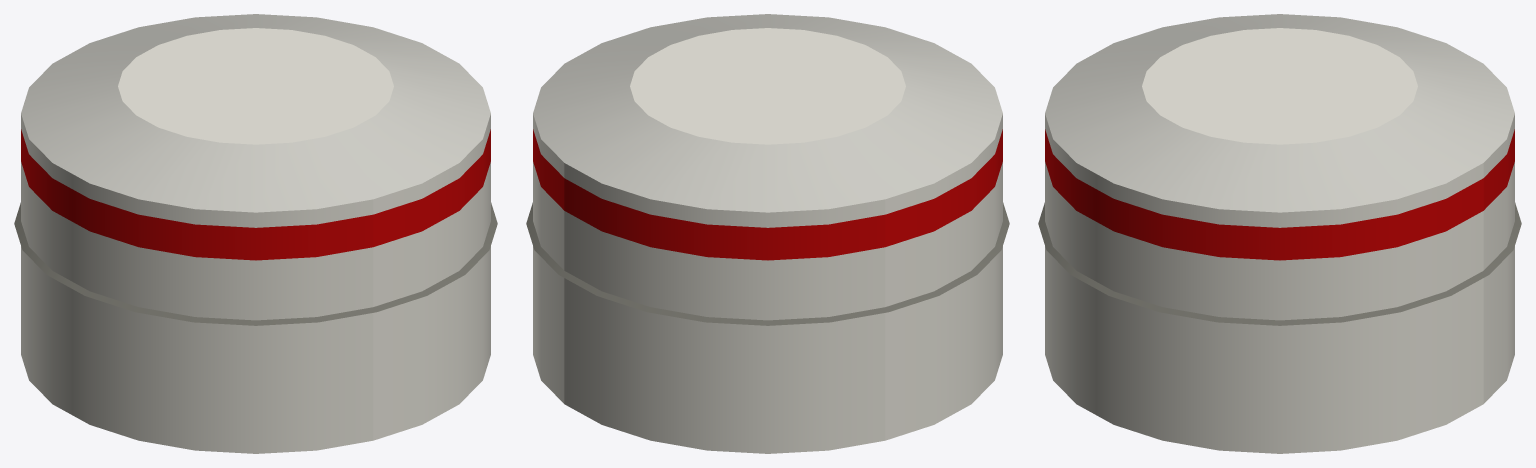
File: bigtank1.fbx
3 renders of one model, left to right at view 1: azimuth 30°, elevation 25°; view 2: azimuth 150°, elevation 25°; view 3: azimuth 270°, elevation 25°, orthographic.
Parts seen in each view (by area): view 1: bigtank1; view 2: bigtank1; view 3: bigtank1.
Part boxes in pixels (bbox=[...]): bigtank1: bbox=[14, 14, 497, 453]; bigtank1: bbox=[526, 14, 1009, 453]; bigtank1: bbox=[1038, 14, 1521, 453].
Size of the model in its own units: 1544 by 945 by 1544.
